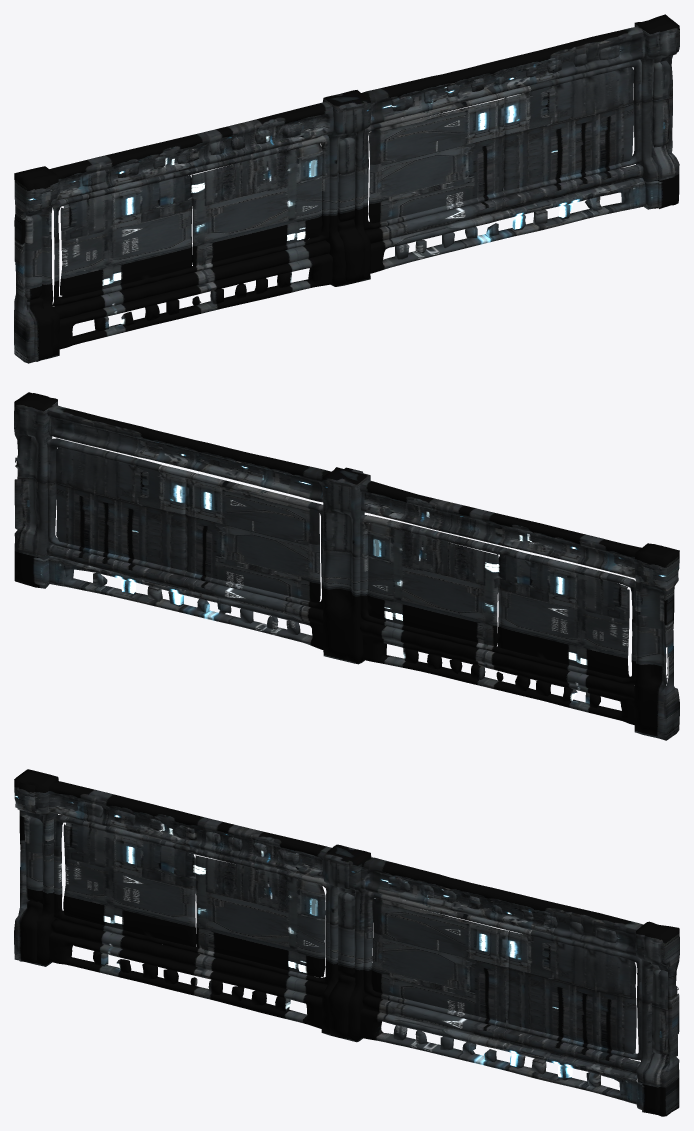
The picture shows the model from 3 angles, top to bottom: view 1: azimuth 30°, elevation 25°; view 2: azimuth 150°, elevation 25°; view 3: azimuth 330°, elevation 25°; orthographic projection.
Visible parts, largest first — view 1: Wall; view 2: Wall; view 3: Wall.
Boxes of the visible parts, <box> form: Wall: <box>14,14,679,363</box>; Wall: <box>14,392,679,740</box>; Wall: <box>14,769,679,1116</box>.
Bounding box in the file's own units: 1 × 0.2672 × 0.045.
1 material, 1 textured.
